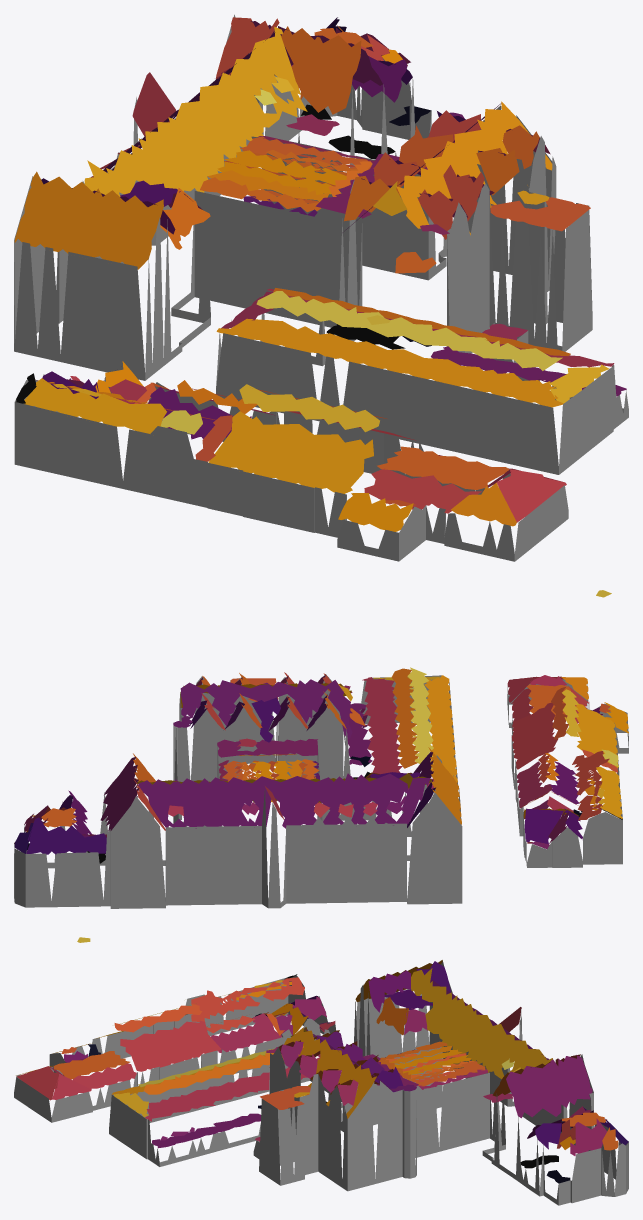
File: campus_84000_447000.glb
3 views of the same model, one above another, from view 1: azimuth 30°, elevation 25°; view 2: azimuth 150°, elevation 25°; view 3: azimuth 270°, elevation 25° (orthographic). The views are drawn at different scales.
Bounding box in the file's own units: 84.2 × 27.63 × 115.
